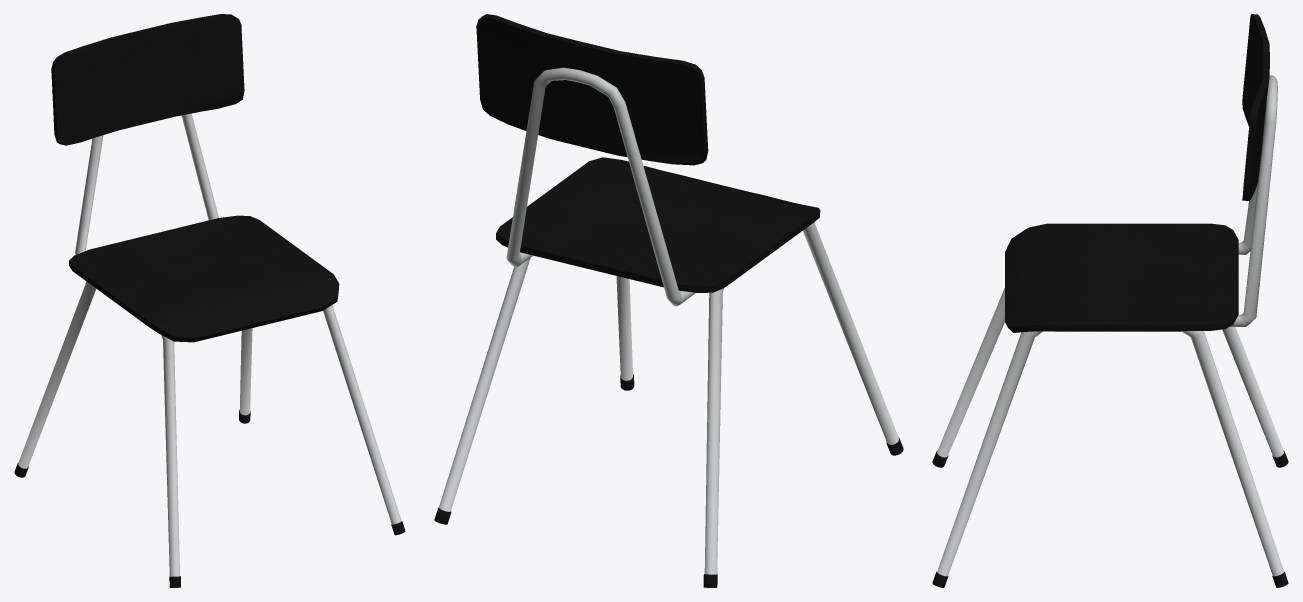
Rendered from Chair 2.FBX.
3 renders of one model, left to right at view 1: azimuth 30°, elevation 25°; view 2: azimuth 150°, elevation 25°; view 3: azimuth 270°, elevation 25°, orthographic. The views are drawn at different scales.
Parts seen in each view (by area): view 1: Chair2; view 2: Chair2; view 3: Chair2.
Part boxes in pixels (left/top/right/bottom): Chair2: left=14, top=14, right=405, bottom=587; Chair2: left=434, top=14, right=903, bottom=587; Chair2: left=932, top=14, right=1288, bottom=587.
Bounding box in the file's own units: 0.5125 × 0.8835 × 0.6094.
1 material, 1 textured.
